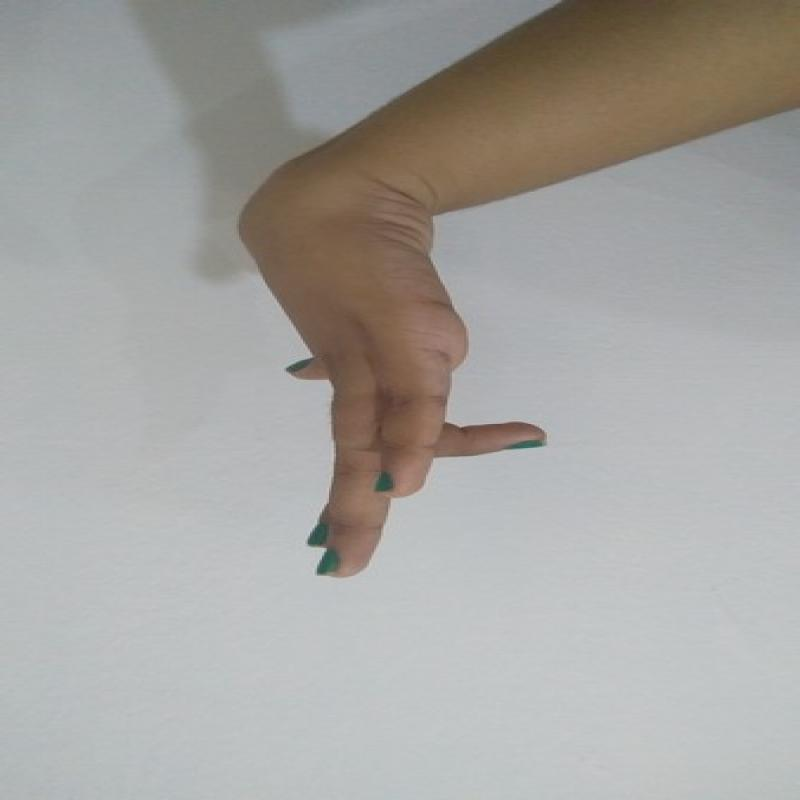Pathaaka: (224, 164, 560, 606)
